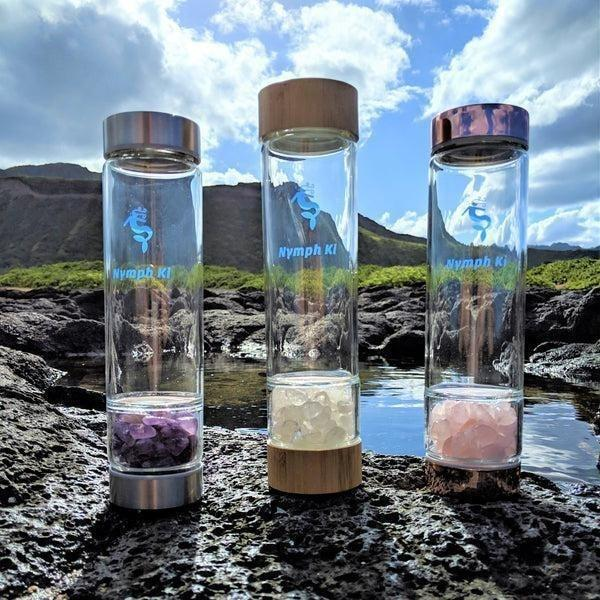gym bottle: (255, 75, 366, 503), (421, 99, 533, 498), (99, 108, 208, 514)
